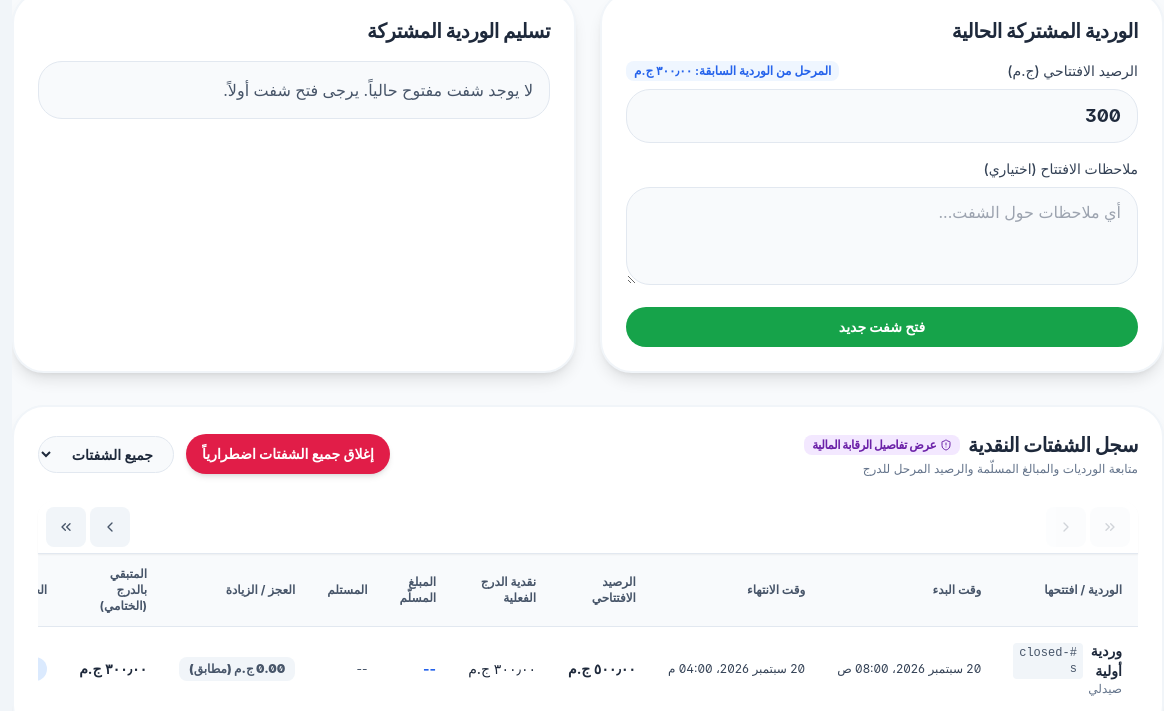
Test: ShiftManagementClient async race regressions › keeps the latest filter result when an older request resolves afterwards
Select "المغلقة" in the dropdown at (106,454), box [38, 436, 174, 472]
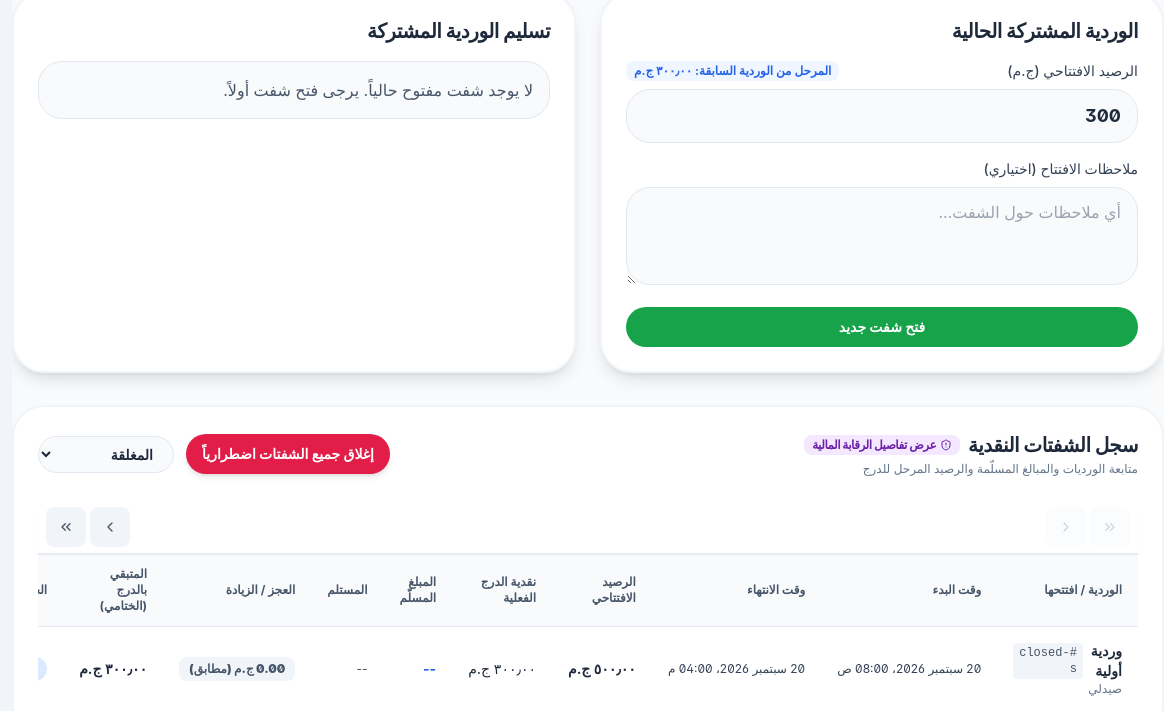
Select "المفتوحة" in the dropdown at (106,454), box [38, 436, 174, 472]
(page scrolled)
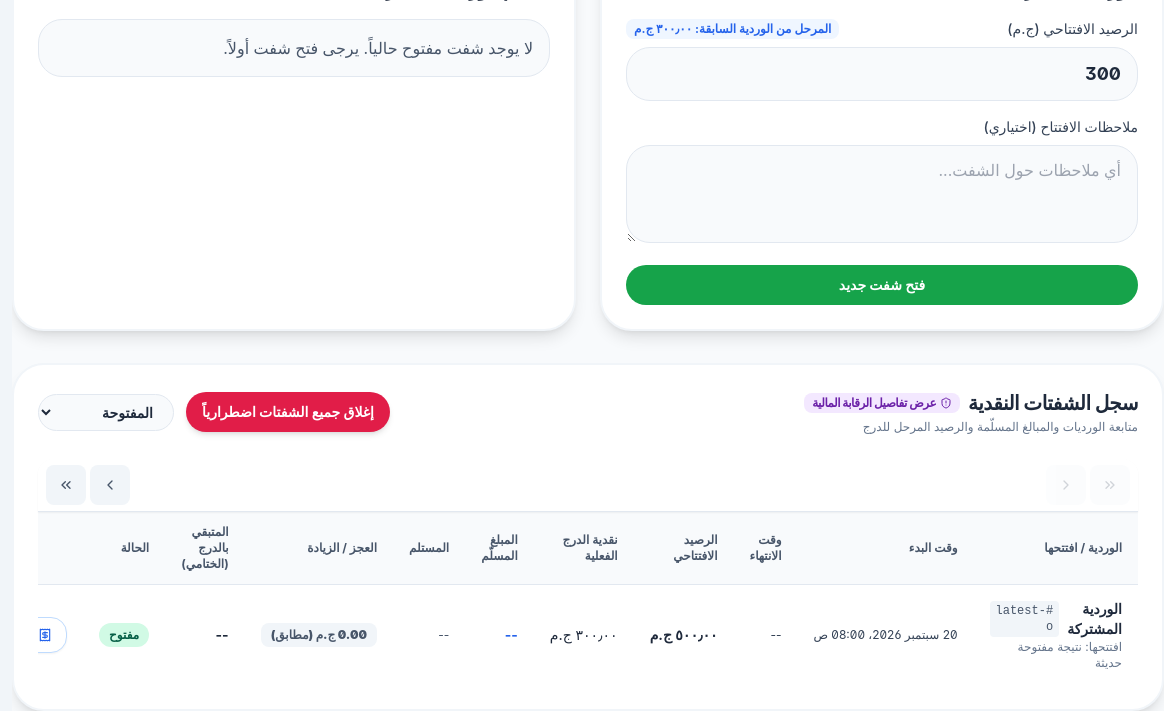
Expected: the text "افتتحها: نتيجة مفتوحة حديثة" is shown, [1018, 639, 1122, 670]
